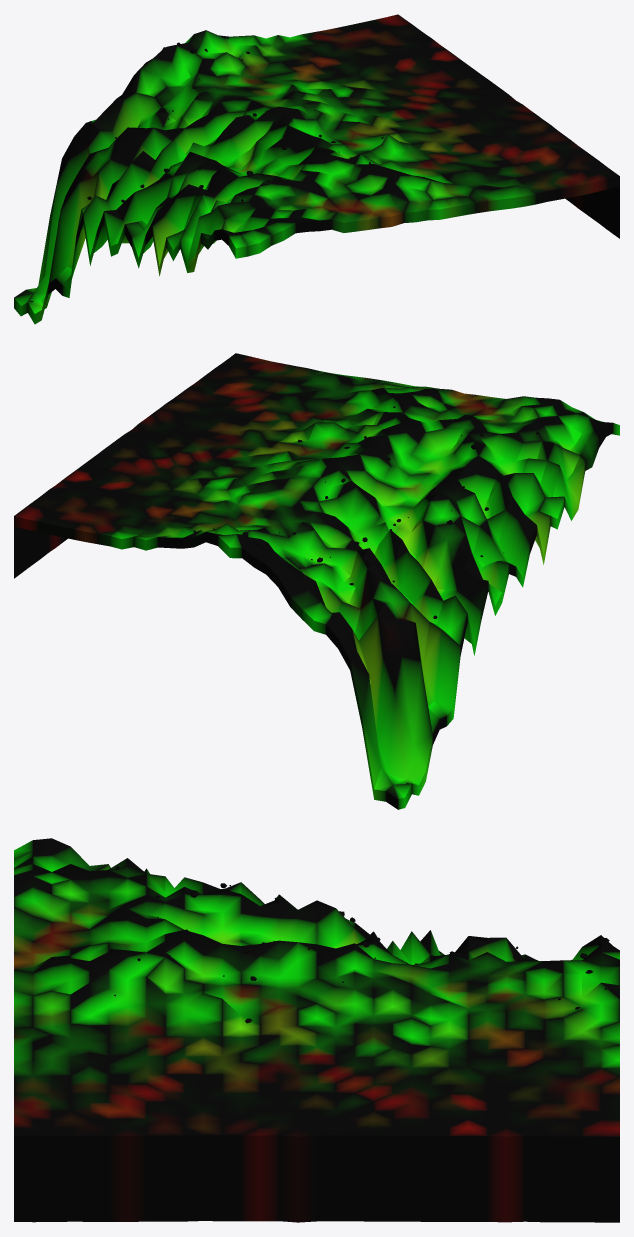
Rendered from Terrain_05_00.fbx.
3 renders of one model, top to bottom at view 1: azimuth 30°, elevation 25°; view 2: azimuth 150°, elevation 25°; view 3: azimuth 270°, elevation 25°, orthographic. The views are drawn at different scales.
Parts seen in each view (by area): view 1: Terrain_05_00_LOD0; view 2: Terrain_05_00_LOD0; view 3: Terrain_05_00_LOD0.
Part boxes in pixels (x1,y1,x2,y2): Terrain_05_00_LOD0: (14,14,619,324); Terrain_05_00_LOD0: (14,353,619,809); Terrain_05_00_LOD0: (14,838,619,1222).
Size of what is drawn, in the model's own units: 384 by 226 by 384.
